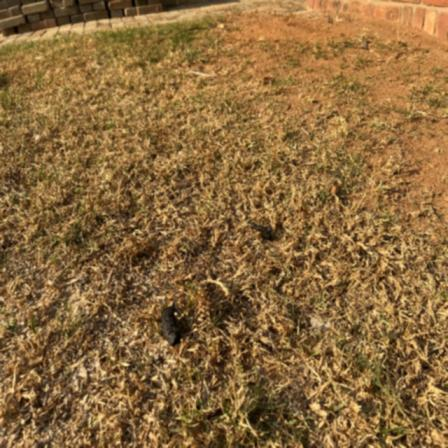dog-poop: (156, 304, 189, 350), (250, 216, 276, 247)
